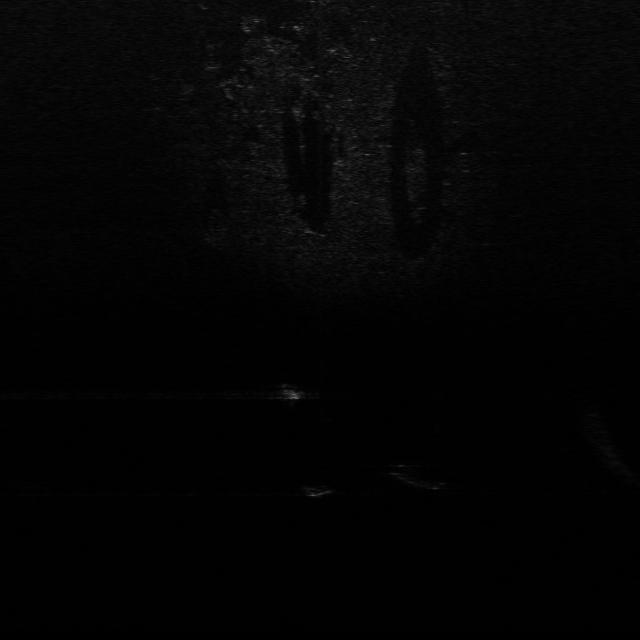cube: (294, 478, 344, 502)
square cage: (264, 377, 324, 405)
tyre: (393, 464, 449, 494)
